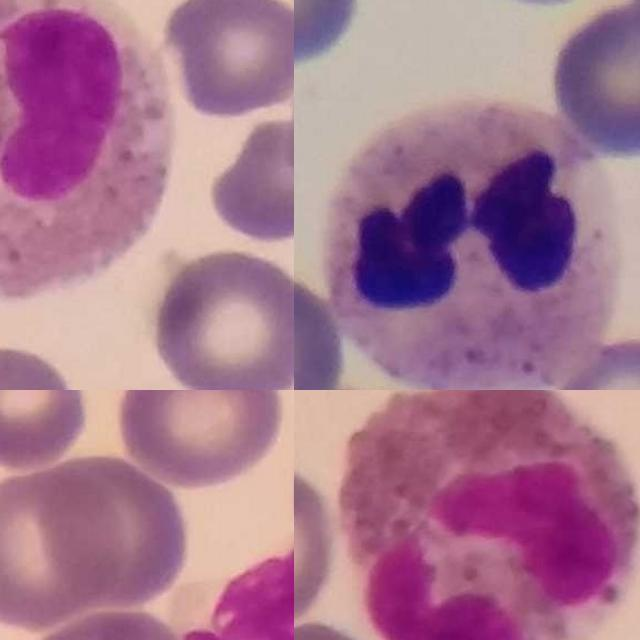Eosinophil: (337, 390, 640, 640), (0, 0, 179, 299)
Neutrophil: (318, 96, 623, 390)
